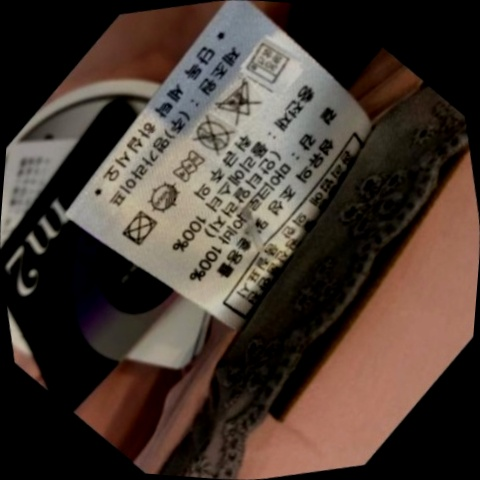30C: (235, 32, 304, 96)
DN_dry_clean: (183, 107, 249, 165)
DN_tumble_dry: (116, 202, 167, 253)
dry_flat_in_shade: (135, 167, 194, 222)
non_chlorine_bleach: (207, 72, 273, 133)
wring: (162, 139, 220, 196)
